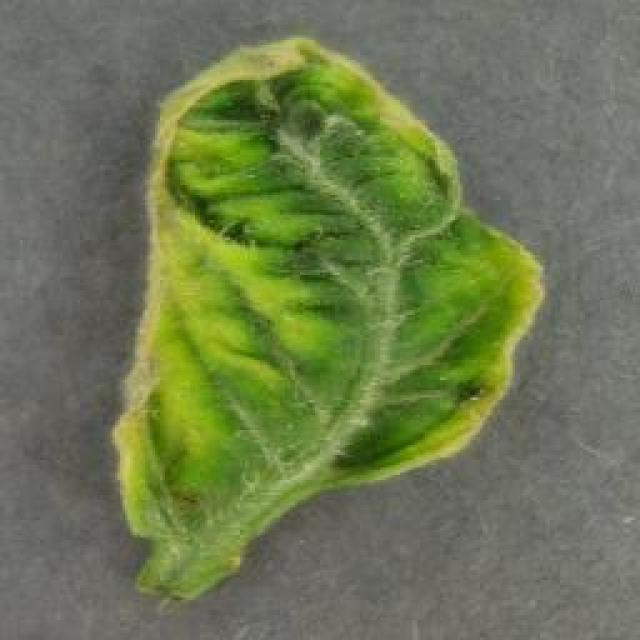Tom_Yellow_Leaf_Curl_Virus: (122, 62, 500, 546)
